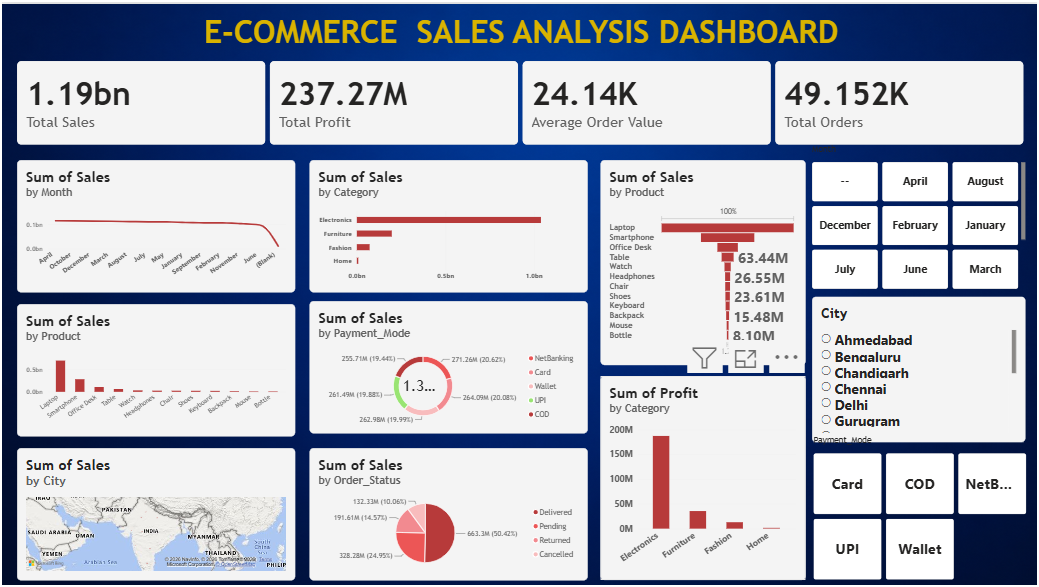

The page's visual inventory and layout, read from the dashboard file:
{"tool":"powerbi","page":{"name":"Page 1","canvas":[1920,1080],"ordinal":0},"visuals":[{"type":"cardVisual","fields":{"Data":["Dax Measures.Total Sales","Dax Measures.Total Profit","Dax Measures.Average Order Value","Dax Measures.Total Orders"]},"box":[28.3,104.9,1865,155],"z":0},{"type":"textbox","box":[150.3,16.7,1622.4,136],"z":1000},{"type":"textbox","box":[0,475,1910,150],"z":2000},{"type":"lineChart","fields":{"Category":["public ecommerce_orders.Month"],"Y":["Sum(public ecommerce_orders.Sales)"]},"box":[28.3,290,515,245],"z":3000},{"type":"barChart","fields":{"Category":["public ecommerce_orders.Category"],"Y":["Sum(public ecommerce_orders.Sales)"]},"box":[569.8,289.1,515,245],"z":4000},{"type":"columnChart","fields":{"Category":["public ecommerce_orders.Product"],"Y":["Sum(public ecommerce_orders.Sales)"]},"box":[28.3,555.6,515,245],"z":5000},{"type":"filledMap","fields":{"Category":["public ecommerce_orders.City"]},"box":[28.3,822.1,515,245],"z":6000},{"type":"donutChart","fields":{"Category":["public ecommerce_orders.Payment_Mode"],"Y":["Sum(public ecommerce_orders.Sales)"]},"box":[569.8,549.9,515,245],"z":7000},{"type":"pieChart","fields":{"Category":["public ecommerce_orders.Order_Status"],"Y":["Sum(public ecommerce_orders.Sales)"]},"box":[569.8,822.1,515,245],"z":8000},{"type":"funnel","fields":{"Category":["public ecommerce_orders.Product"],"Y":["Sum(public ecommerce_orders.Sales)"]},"box":[1108.4,289.1,380,380],"z":9000},{"type":"columnChart","fields":{"Category":["public ecommerce_orders.Category"],"Y":["Sum(public ecommerce_orders.Profit)"]},"box":[1108.4,688.8,380,378],"z":10000},{"type":"advancedSlicerVisual","fields":{"Values":["public ecommerce_orders.Month"]},"box":[1499.5,258,395,270],"z":11000},{"type":"listSlicer","fields":{"Values":["public ecommerce_orders.City"]},"box":[1499.5,541.4,395,270],"z":12000},{"type":"advancedSlicerVisual","fields":{"Values":["public ecommerce_orders.Payment_Mode"]},"box":[1502.4,796.5,395,270],"z":13000}]}

Visuals, with their boxes in screenshot pixels (x1, y1, x2, y2), scaled from the page's 1920x1080 canvas onto the 1039x587 screenshot:
cardVisual - Dax Measures.Total Sales x Dax Measures.Total Profit: [left=15, top=57, right=1025, bottom=141]
textbox: [left=81, top=9, right=959, bottom=83]
textbox: [left=0, top=258, right=1034, bottom=340]
lineChart - public ecommerce_orders.Month x Sum(public ecommerce_orders.Sales): [left=15, top=158, right=294, bottom=291]
barChart - public ecommerce_orders.Category x Sum(public ecommerce_orders.Sales): [left=308, top=157, right=587, bottom=290]
columnChart - public ecommerce_orders.Product x Sum(public ecommerce_orders.Sales): [left=15, top=302, right=294, bottom=435]
filledMap - public ecommerce_orders.City: [left=15, top=447, right=294, bottom=580]
donutChart - public ecommerce_orders.Payment_Mode x Sum(public ecommerce_orders.Sales): [left=308, top=299, right=587, bottom=432]
pieChart - public ecommerce_orders.Order_Status x Sum(public ecommerce_orders.Sales): [left=308, top=447, right=587, bottom=580]
funnel - public ecommerce_orders.Product x Sum(public ecommerce_orders.Sales): [left=600, top=157, right=805, bottom=364]
columnChart - public ecommerce_orders.Category x Sum(public ecommerce_orders.Profit): [left=600, top=374, right=805, bottom=580]
advancedSlicerVisual - public ecommerce_orders.Month: [left=811, top=140, right=1025, bottom=287]
listSlicer - public ecommerce_orders.City: [left=811, top=294, right=1025, bottom=441]
advancedSlicerVisual - public ecommerce_orders.Payment_Mode: [left=813, top=433, right=1027, bottom=580]
